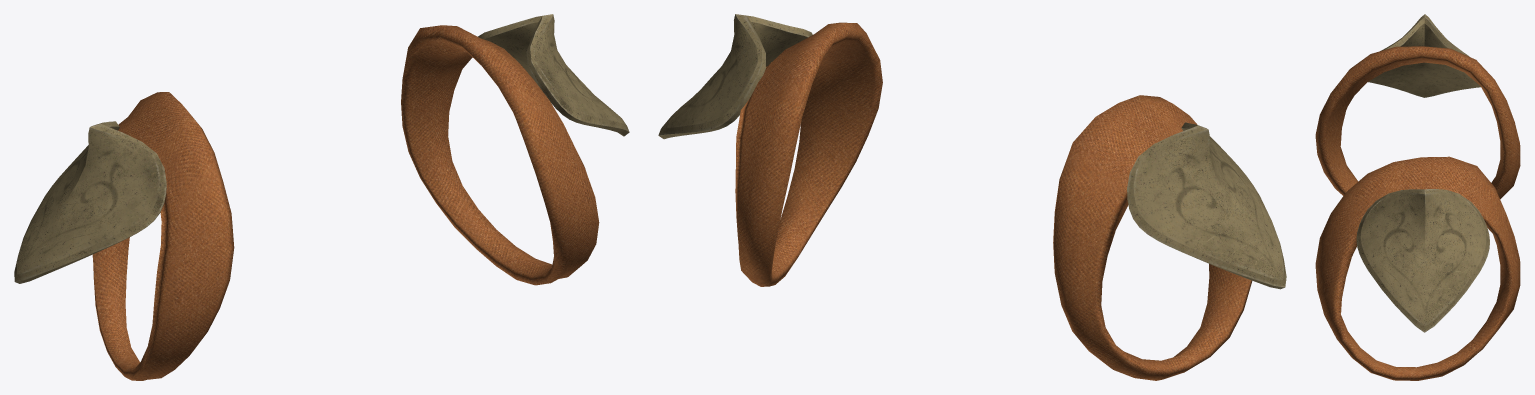
File: am_golden_flower_knight_pauldrons_a02.fbx
3 renders of one model, left to right at view 1: azimuth 30°, elevation 25°; view 2: azimuth 150°, elevation 25°; view 3: azimuth 270°, elevation 25°, orthographic. The views are drawn at different scales.
Parts seen in each view (by area): view 1: am_golden_flower_knight_pauldrons_a02; view 2: am_golden_flower_knight_pauldrons_a02; view 3: am_golden_flower_knight_pauldrons_a02.
Boxes of the visible parts, x1,y1,x2,y2 form: am_golden_flower_knight_pauldrons_a02: [14, 14, 629, 380]; am_golden_flower_knight_pauldrons_a02: [658, 14, 1286, 380]; am_golden_flower_knight_pauldrons_a02: [1315, 14, 1520, 380].
Size of the model in its own units: 0.6308 by 0.229 by 0.249.
1 material, 1 textured.
